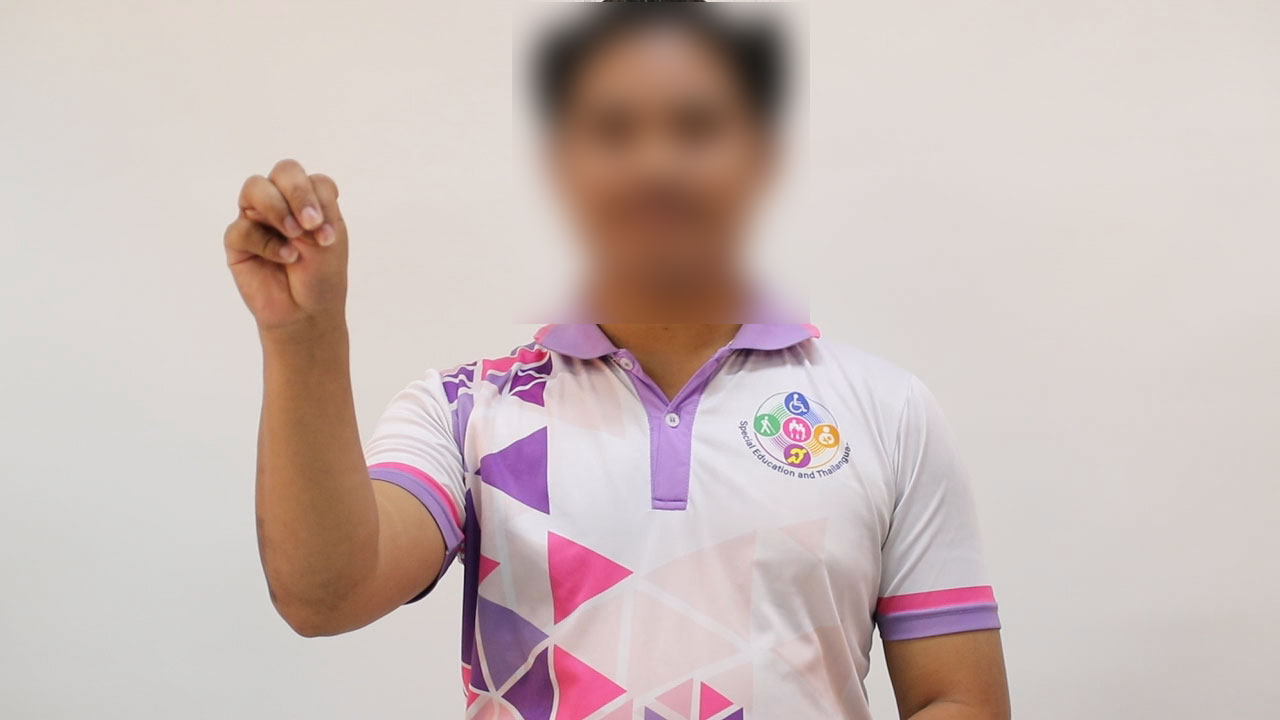mor: (198, 141, 384, 354)
